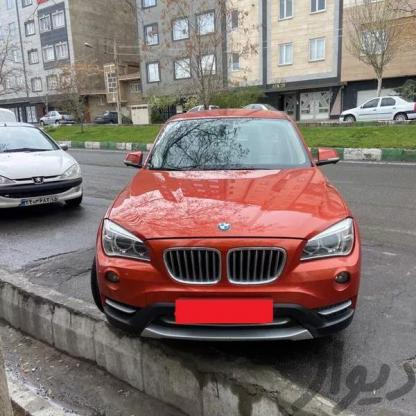Car: (96, 104, 375, 346), (0, 109, 98, 212), (324, 90, 416, 133), (43, 108, 76, 126), (94, 112, 125, 127)
